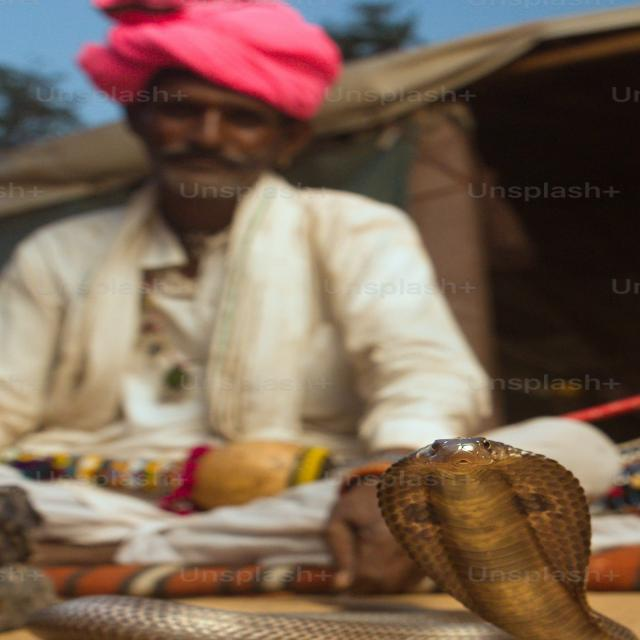Snake: (22, 434, 640, 639)
